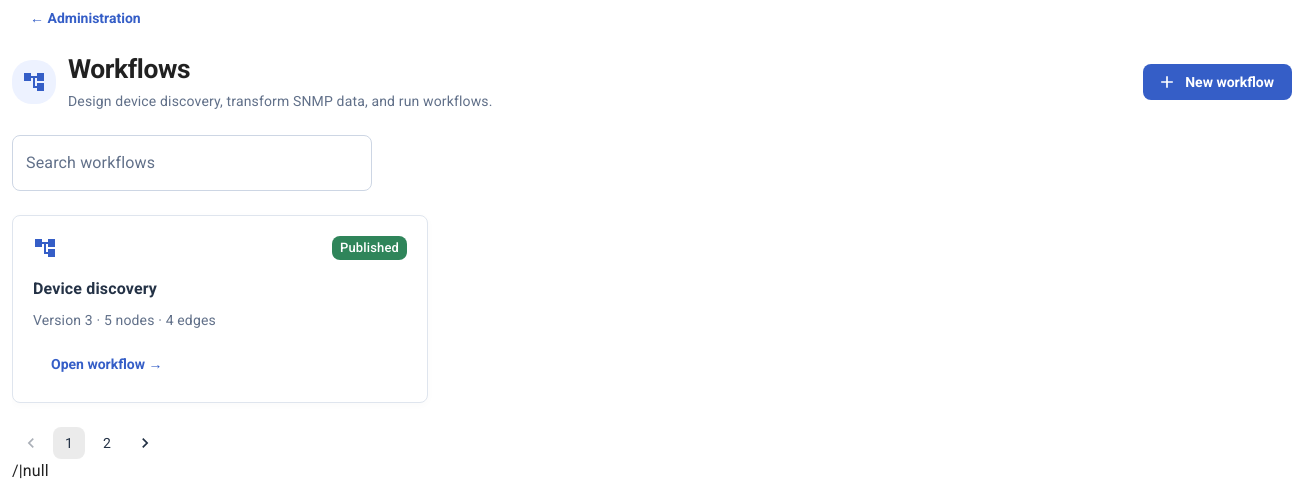
Test case: workflow catalog › resets the selected page when searching and explains empty results
Expected: the heading "Device discovery" is shown, [33,279,157,298]
Click the button named "Go to page 2" at (107, 443), box [91,427,123,459]
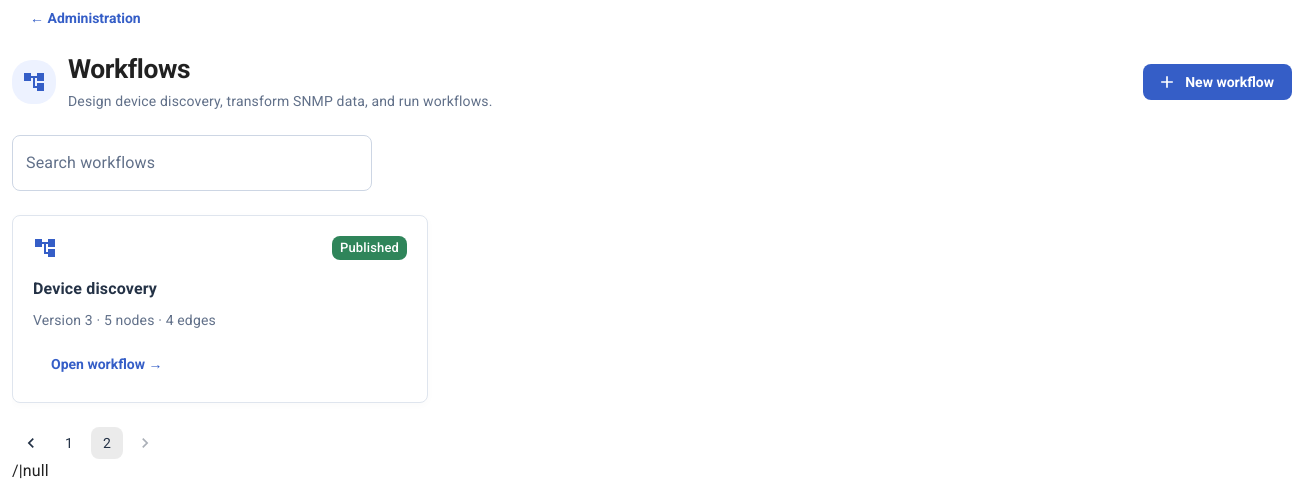
Type "missing" into the field labelled "Search workflows" at (192, 163), box [12,135,372,191]
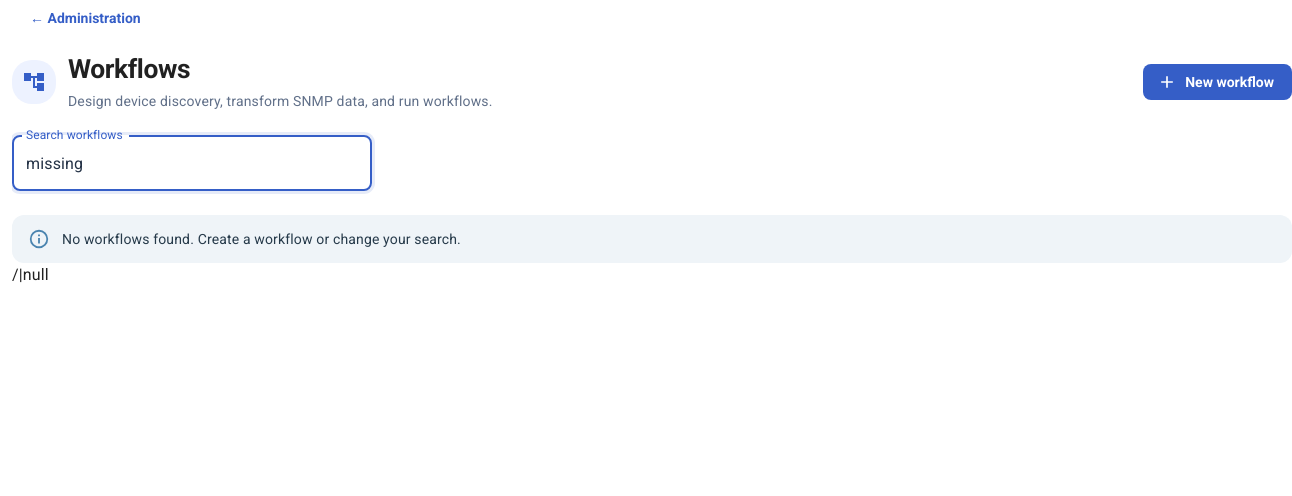
Expected: the message shows "No workflows found", [62,231,461,247]
